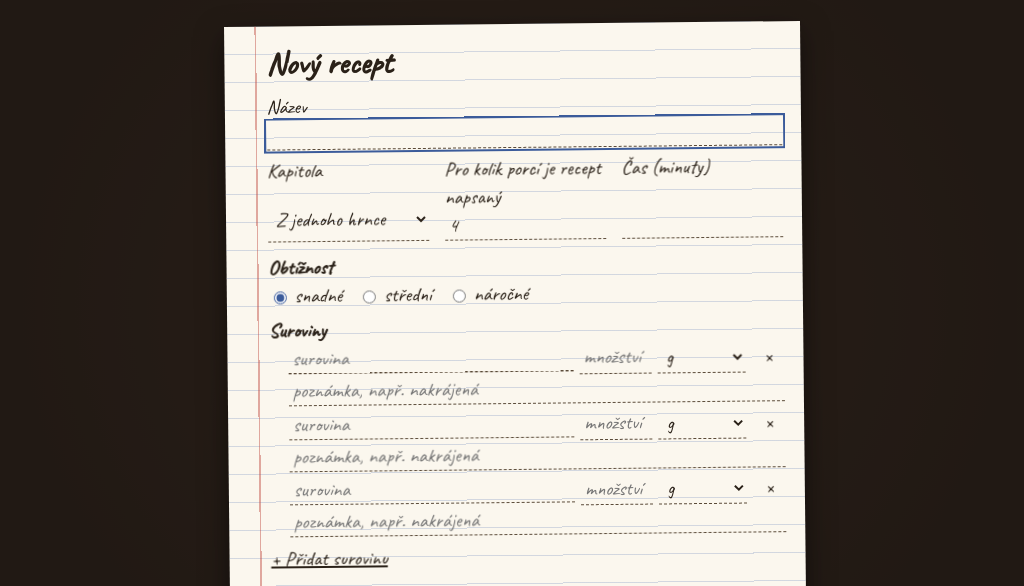
Test: špetka: množství je 1 a pole je zakázané
Select "špetka" in the dropdown named "Jednotka 1" at x=702, y=357, box [658, 340, 746, 373]
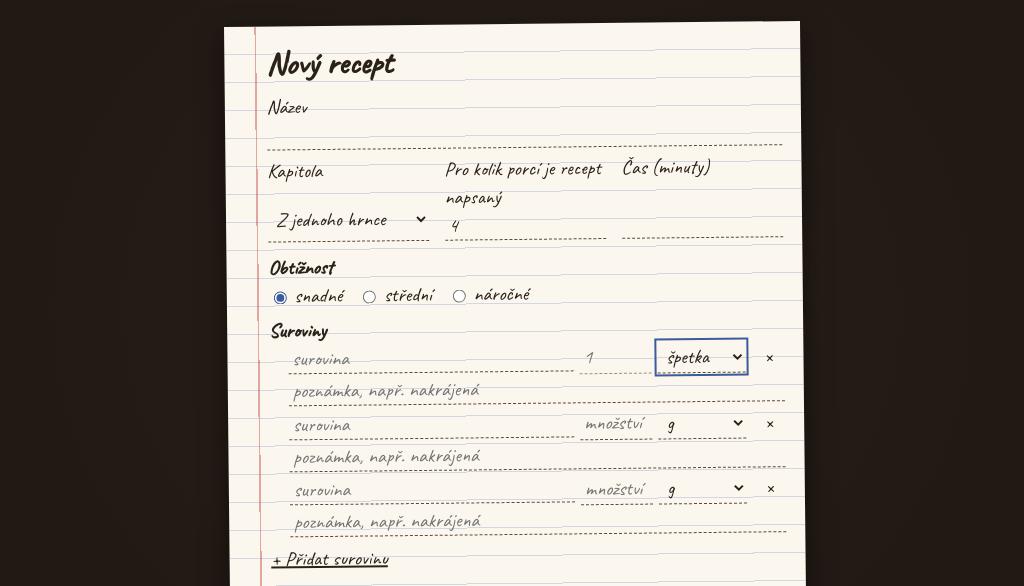
Expected: the field named "Množství 1" is disabled, [579, 341, 652, 374]
Expected: the field named "Množství 1" holds "1", [579, 341, 652, 374]
